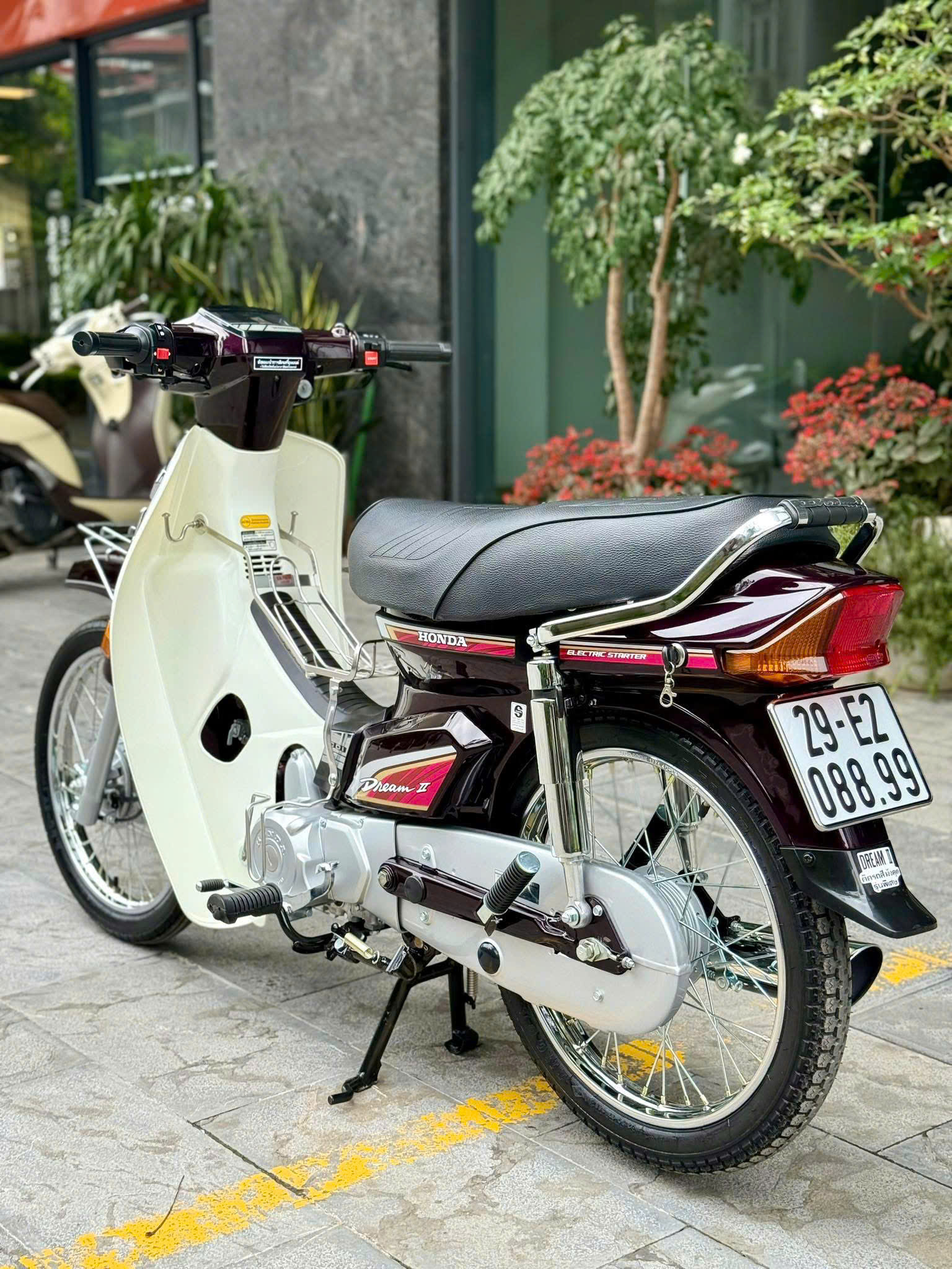Bien-so: (771, 679, 940, 824)
